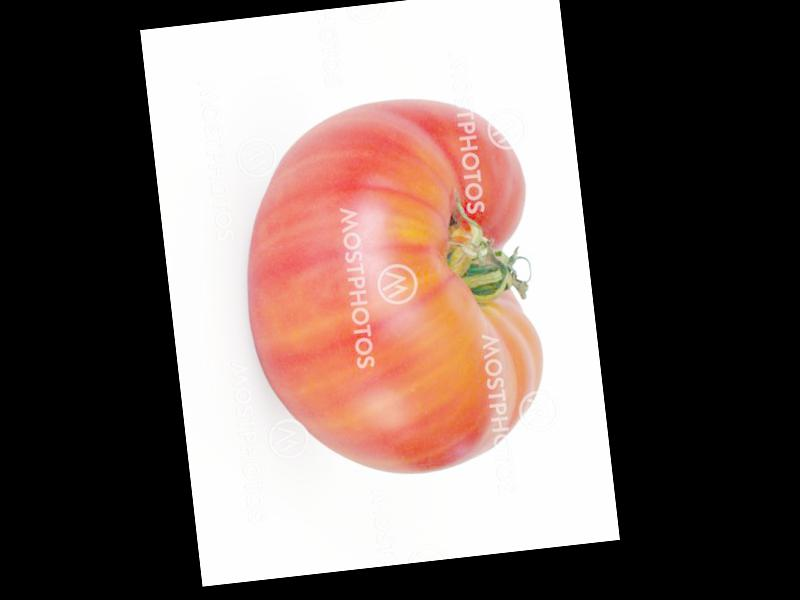Tomato: (228, 87, 556, 490)
